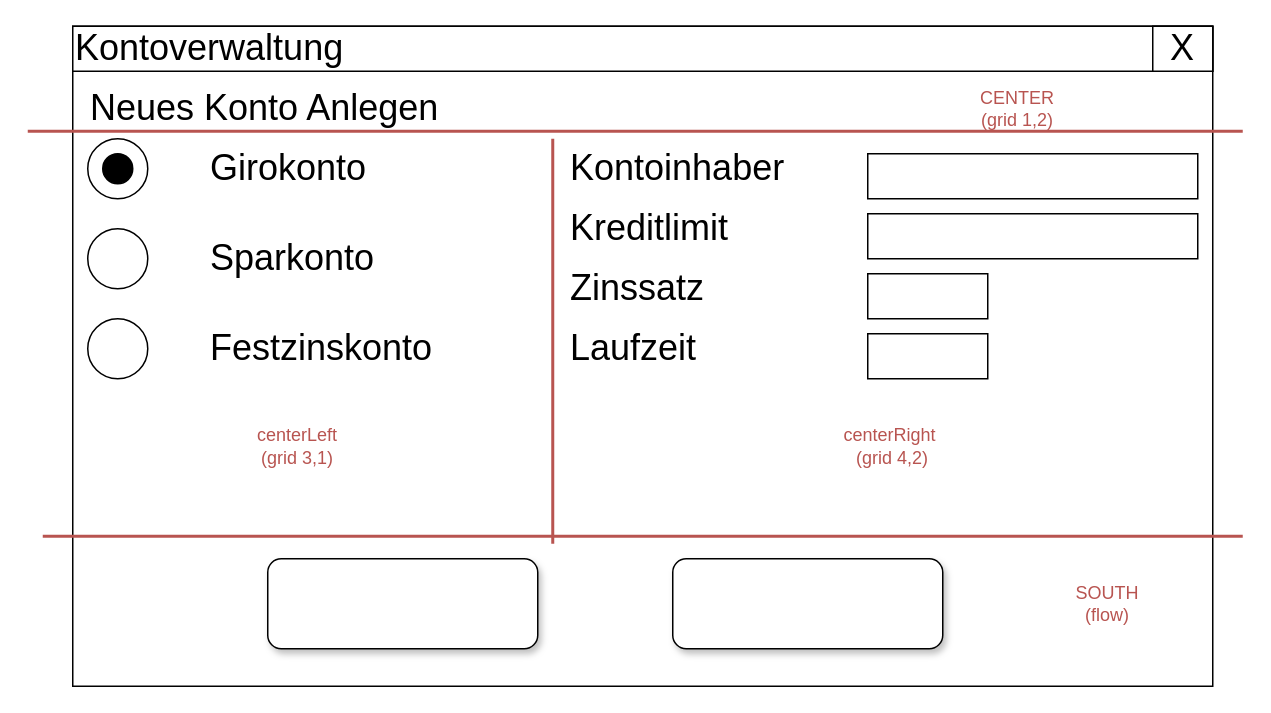
This 1271x713 diagram has some shape labels left out. Here are the shapes that lost their labels. From the top down, the centre of each, then its label:
At point (403, 605): "Hauptmenü".
At point (808, 605): "Anlegen".
